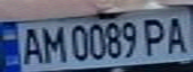0: (66, 21, 90, 62), (87, 21, 106, 61)
8: (103, 19, 124, 60)
9: (118, 18, 142, 58)
A: (160, 13, 193, 55), (15, 25, 45, 65)
M: (36, 24, 66, 64)
P: (139, 15, 172, 56)
